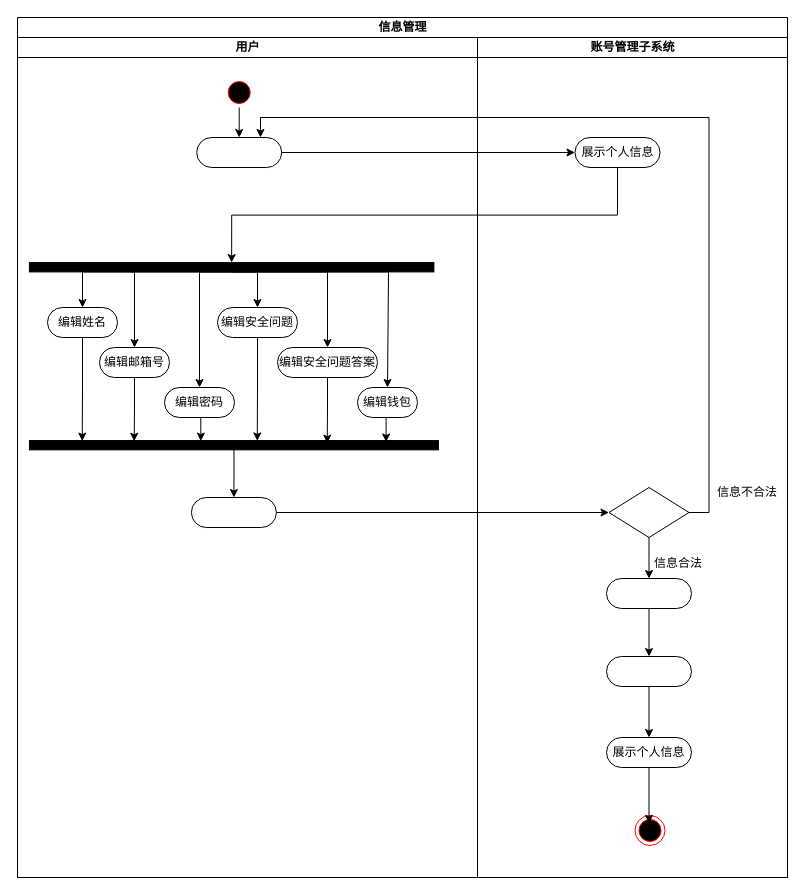
Image size: 805x895. Some labels were removed from this diagram. The shapes that lost their labels are listed below. From the top down, each one's centre as x and y in pixels, then its label:
(239,152): 进入个人信息编辑页面
(233,512): 点击提交更改
(648,512): 信息合法性 检查
(649,593): 存储信息
(649,671): 提示保存更改
